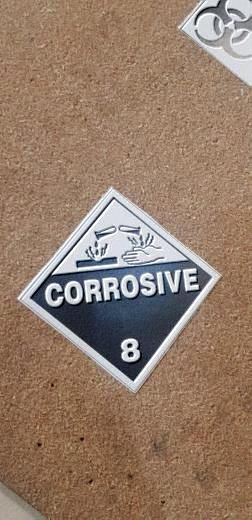corrosive: (24, 187, 221, 394)
